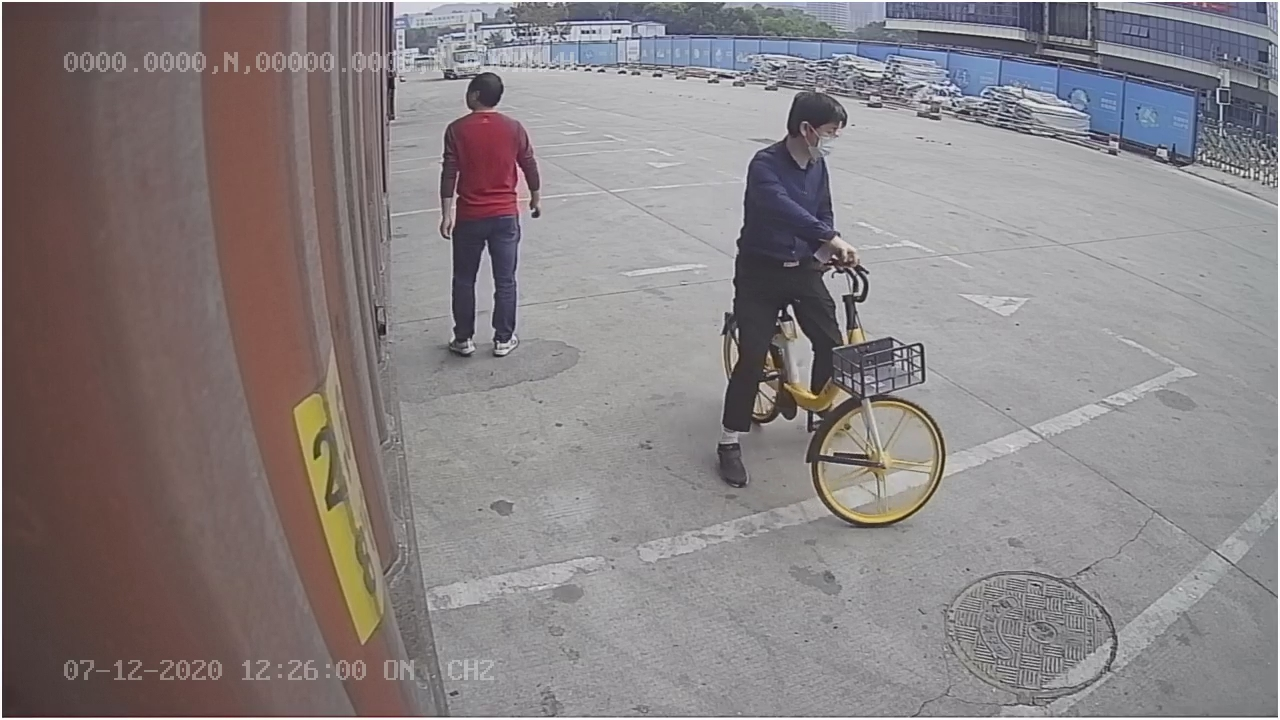person: (438, 69, 546, 360)
